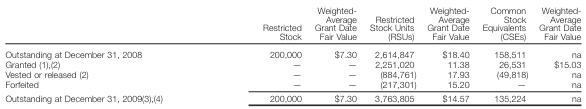table: (4, 4, 580, 103)
table column: (4, 4, 212, 103), (212, 4, 307, 103), (362, 4, 421, 103), (475, 4, 532, 103), (307, 4, 362, 103), (421, 4, 475, 103), (532, 4, 580, 103)
table column header: (4, 4, 580, 44)
table row: (4, 4, 580, 44), (4, 44, 580, 58), (4, 90, 580, 103), (4, 78, 580, 90), (4, 58, 580, 68), (4, 68, 580, 78)
